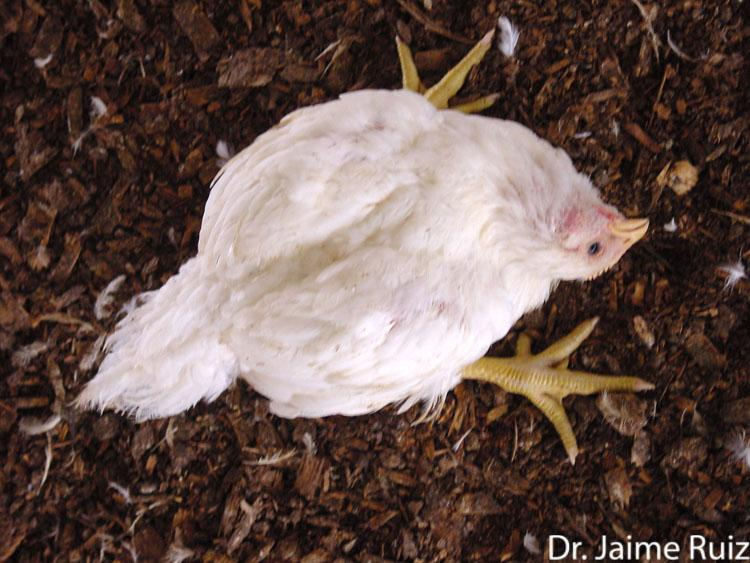AbNormal: (37, 26, 682, 477)
